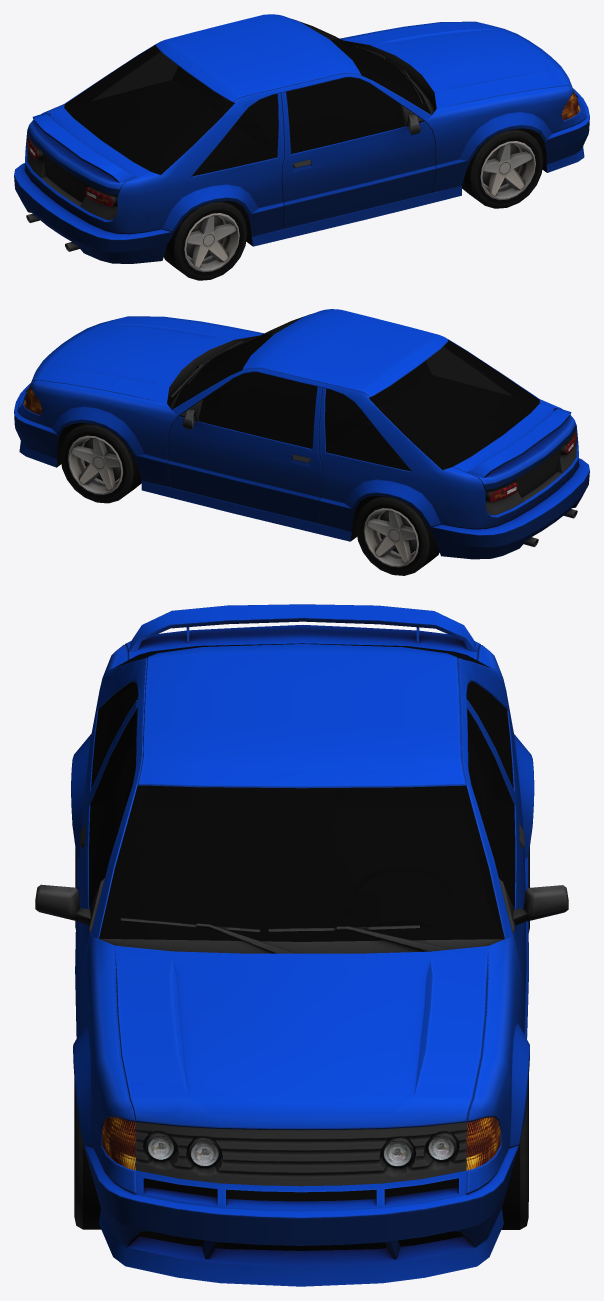
The model's file is Sedan.glb.
3 renders of one model, top to bottom at view 1: azimuth 30°, elevation 25°; view 2: azimuth 150°, elevation 25°; view 3: azimuth 270°, elevation 25°, orthographic. The views are drawn at different scales.
Parts seen in each view (by area): view 1: Coupe Body_Body_0; view 2: Coupe Body_Body_0; view 3: Coupe Body_Body_0.
Boxes of the visible parts, <box> form: Coupe Body_Body_0: <box>14,14,589,280</box>; Coupe Body_Body_0: <box>14,309,589,575</box>; Coupe Body_Body_0: <box>35,604,568,1286</box>.
Bounding box in the file's own units: 4.24 × 1.28 × 1.88.
4 materials, 3 textured.
